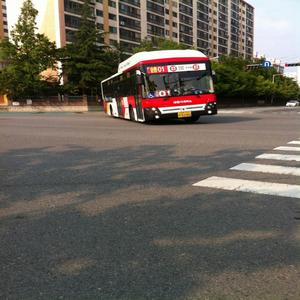backdoor: (108, 81, 128, 118)
frontdoor: (127, 67, 144, 118)
